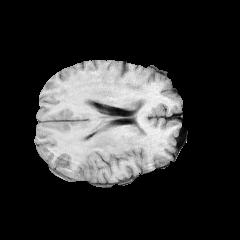glioma: (74, 129, 154, 163)
